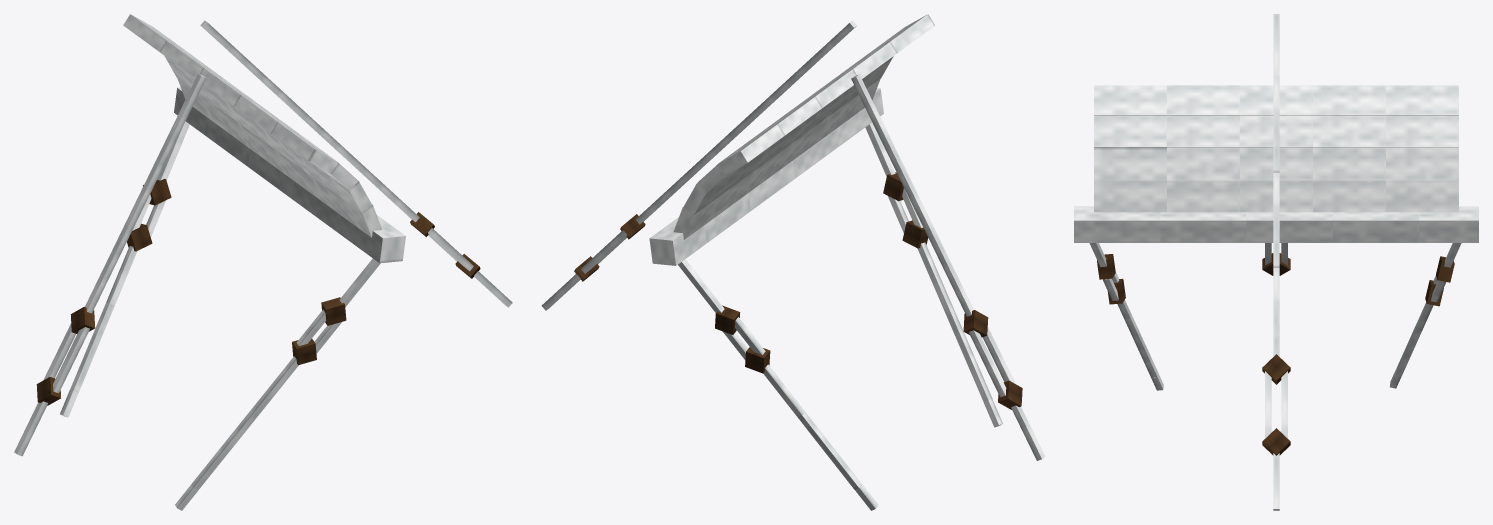
File: cog_segel_1_2.obj
3 views of the same model, side by side, from view 1: azimuth 30°, elevation 25°; view 2: azimuth 150°, elevation 25°; view 3: azimuth 270°, elevation 25° (orthographic). The views are drawn at different scales.
Parts seen in each view (by area): view 1: cube; view 2: cube; view 3: cube.
Part boxes in pixels (x1=…): cube: x1=14, y1=14, x2=512, y2=510; cube: x1=541, y1=14, x2=1045, y2=510; cube: x1=1074, y1=14, x2=1478, y2=510.
Bounding box in the file's own units: 5.3 × 4.34 × 3.81.
